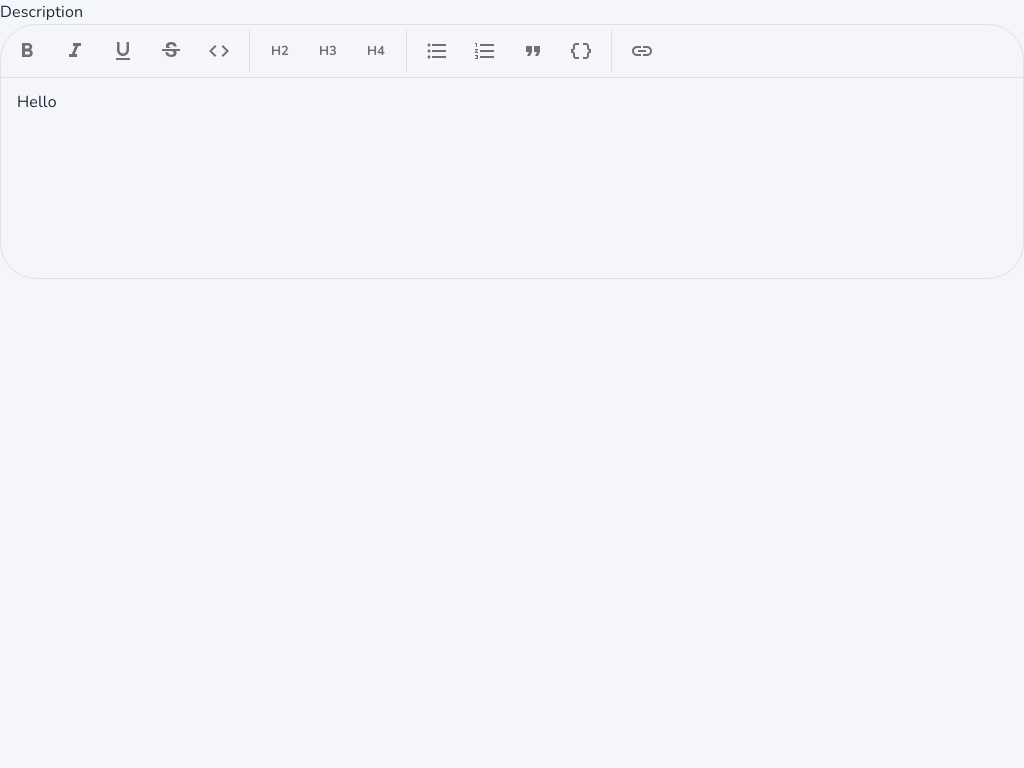
Test case: RichTextEditor › refuses a javascript: link in the link dialog
The image size is (1024, 768).
Expected: the field named "Description" is shown, top-left (17, 91), bottom-right (57, 113)
Click the button named "Link" at point(642, 51), box top-left (620, 29), bottom-right (664, 73)
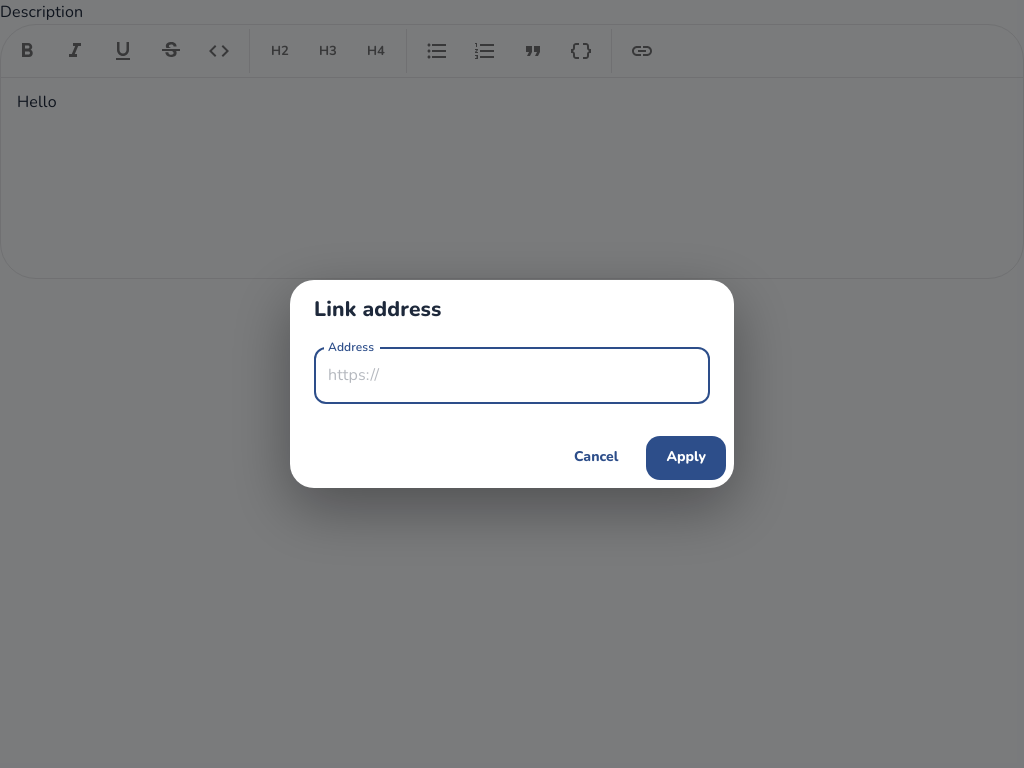
Type "javascript:alert(1)" into the field labelled "Address" at point(512, 376), box top-left (314, 348), bottom-right (710, 404)
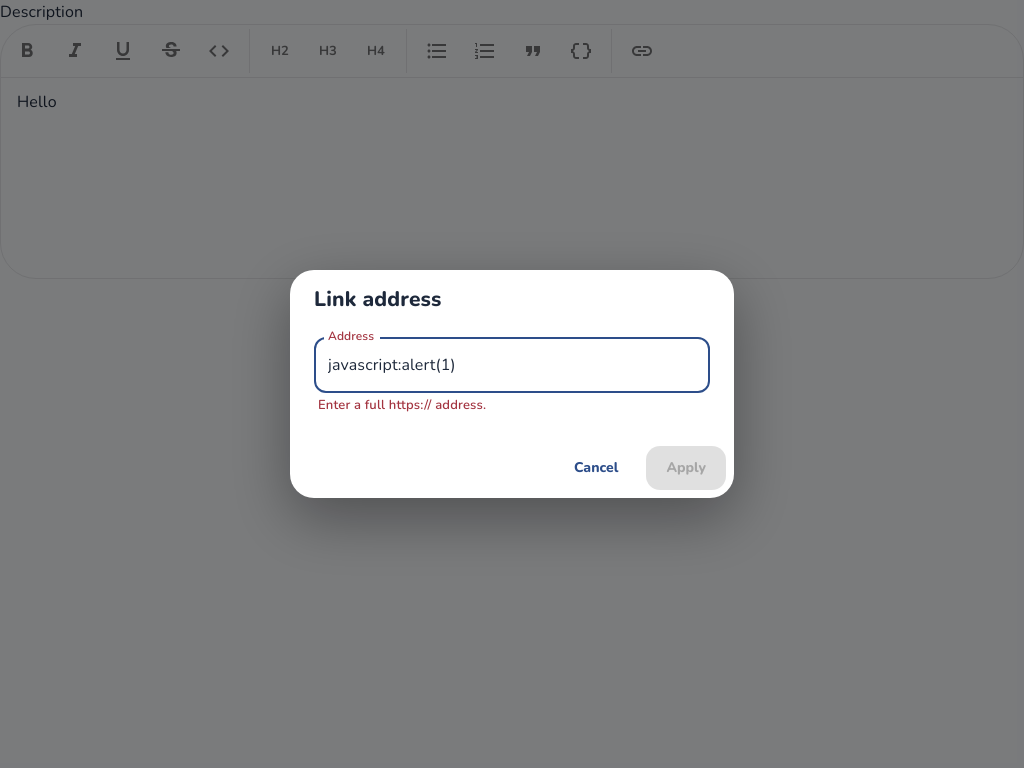
Now the text "Enter a full https:// address." is shown, box top-left (318, 396), bottom-right (486, 414)
Now the button "Apply" is disabled, box top-left (646, 446), bottom-right (726, 490)
Replace the text in the field labelled "Address" with "https://ok.test" at point(512, 365), box top-left (314, 337), bottom-right (710, 393)
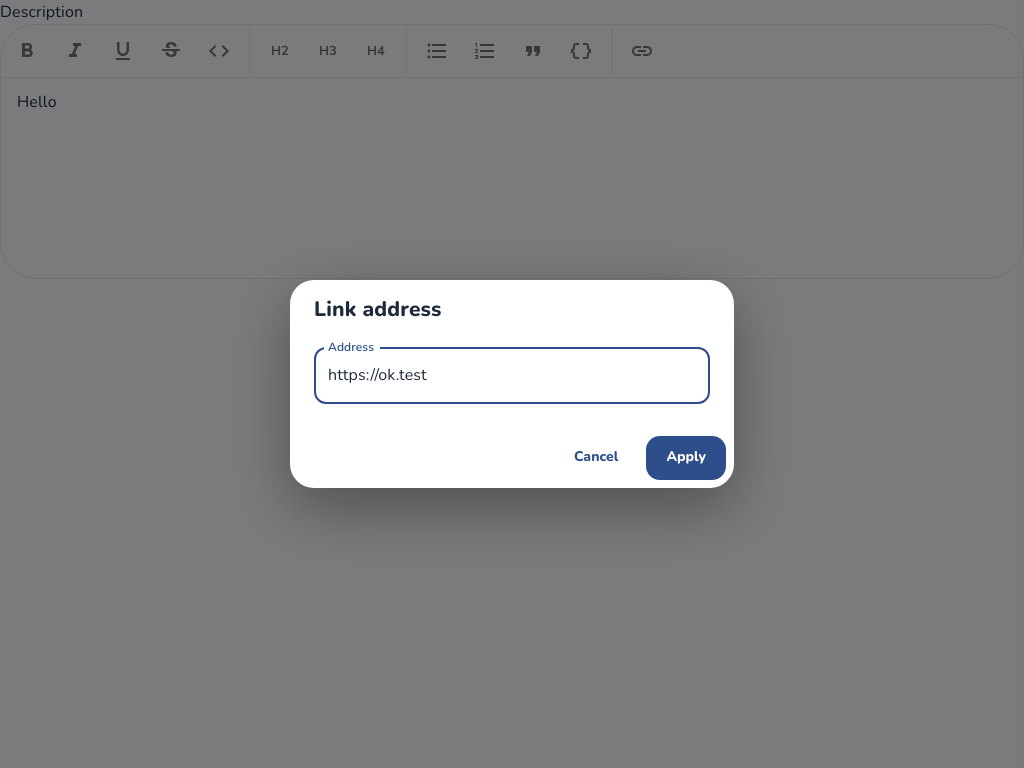
Now the button "Apply" is enabled, box top-left (646, 436), bottom-right (726, 480)
